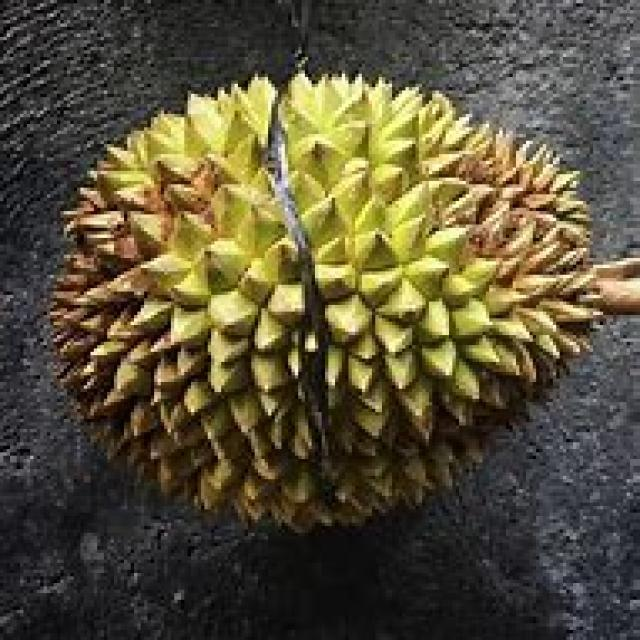mature: (51, 72, 599, 531)
